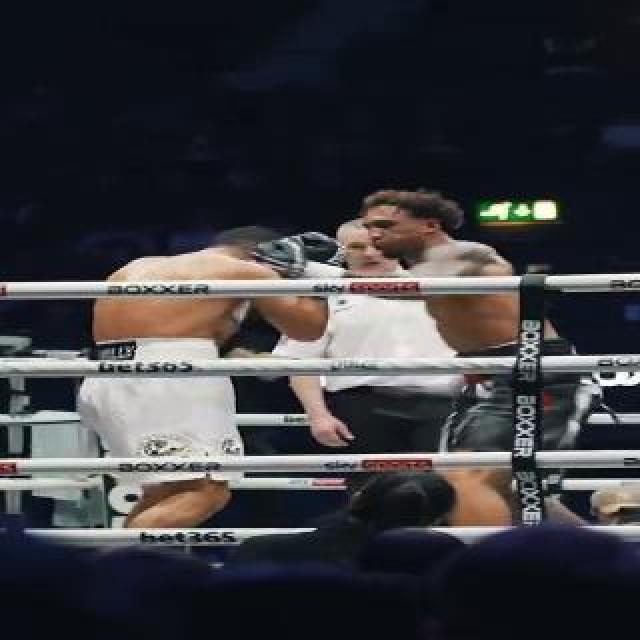fight: (67, 193, 623, 521)
